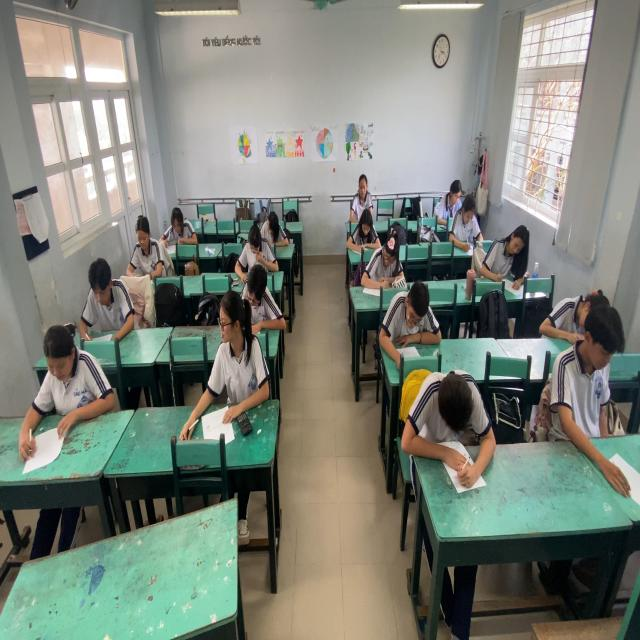cheating: (217, 289, 261, 416)
not_cheating: (562, 296, 621, 479), (413, 363, 488, 495), (29, 321, 104, 432), (77, 250, 132, 350), (386, 270, 433, 356), (482, 218, 528, 292), (236, 253, 280, 330), (550, 274, 597, 336), (128, 210, 163, 288), (361, 224, 400, 292), (242, 226, 279, 284), (452, 192, 480, 254), (160, 198, 193, 249), (257, 200, 290, 250), (348, 203, 378, 250), (346, 167, 376, 209), (441, 173, 461, 222)
